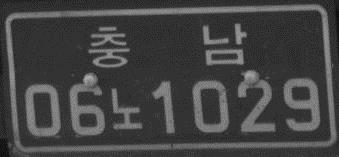0: (22, 80, 63, 139), (189, 77, 230, 135)
1: (149, 78, 177, 137)
2: (232, 76, 277, 135)
6: (67, 80, 106, 138)
9: (282, 74, 323, 132)
노: (108, 84, 142, 132)
충남_D: (86, 20, 249, 71)
